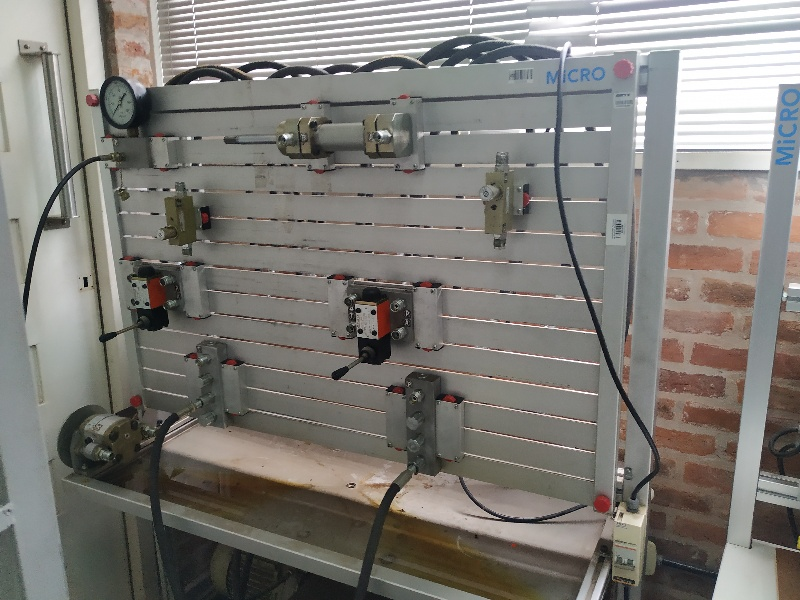Tablero 5: (95, 92, 623, 528)
